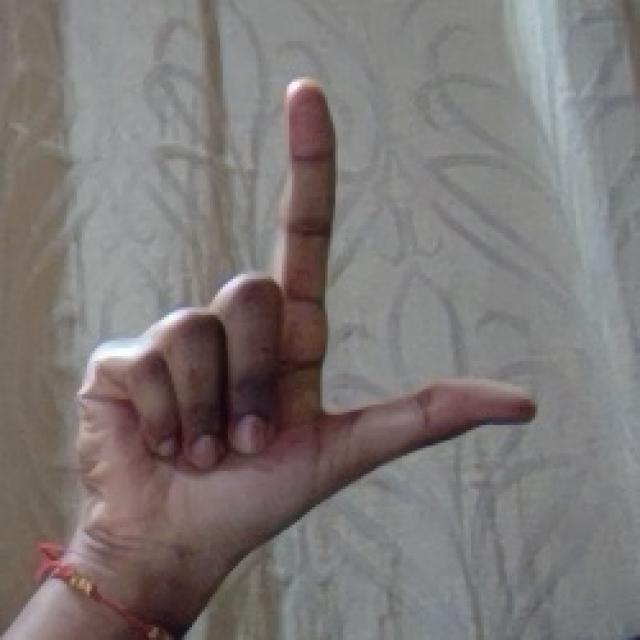Alphabet-L: (64, 70, 546, 534)
